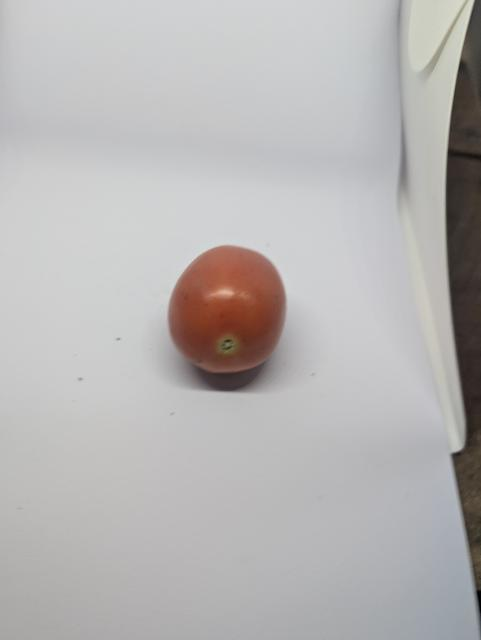red: (157, 232, 297, 386)
